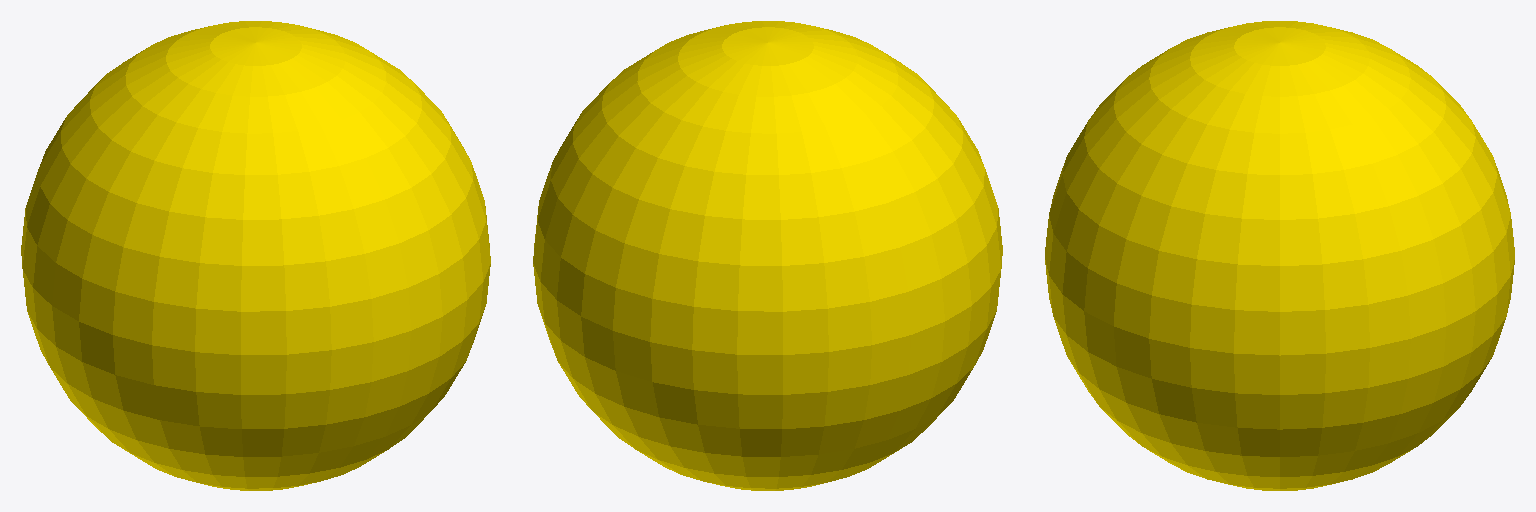
File: Tile.obj
3 views of the same model, side by side, from view 1: azimuth 30°, elevation 25°; view 2: azimuth 150°, elevation 25°; view 3: azimuth 270°, elevation 25° (orthographic).
Parts seen in each view (by area): view 1: Sphere.001; view 2: Sphere.001; view 3: Sphere.001.
Boxes of the visible parts, <box> form: Sphere.001: <box>21,21,490,490</box>; Sphere.001: <box>533,21,1002,490</box>; Sphere.001: <box>1045,21,1514,490</box>.
Size of the model in its own units: 1.4 by 1.4 by 1.4.